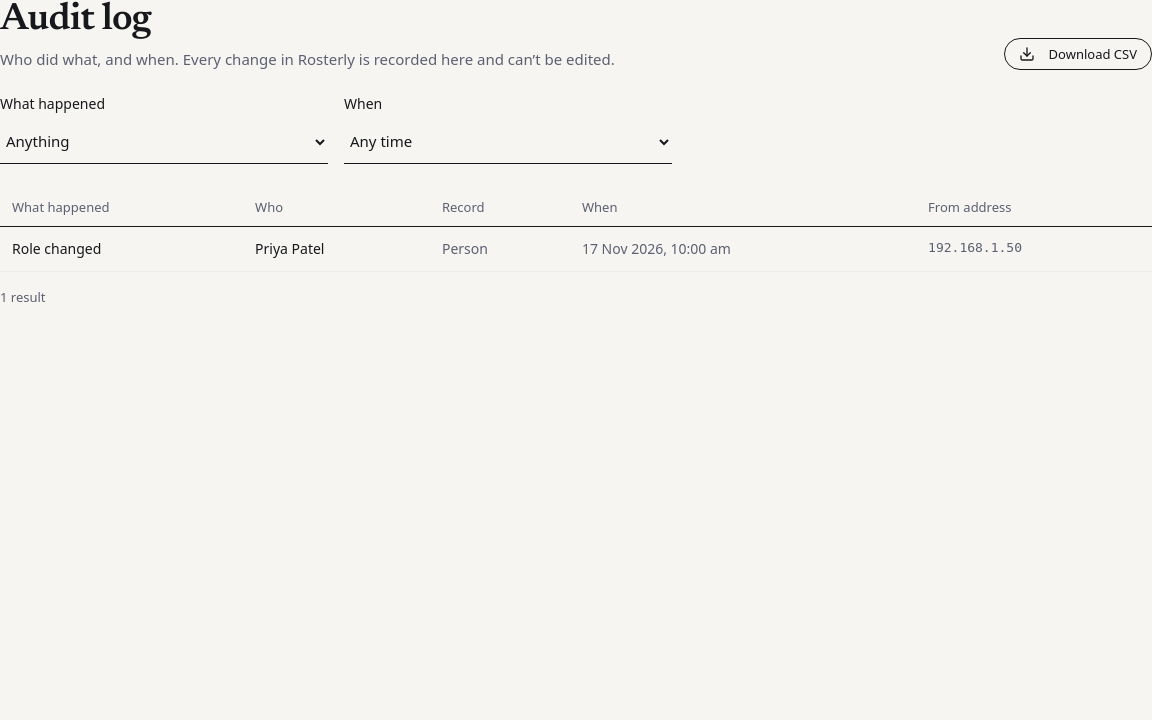
Test: Audit Log Viewer › shows what changed, before and after, in the side panel
Click the button with aria-label "Role changed — open details": (57, 249) [12,239,101,259]
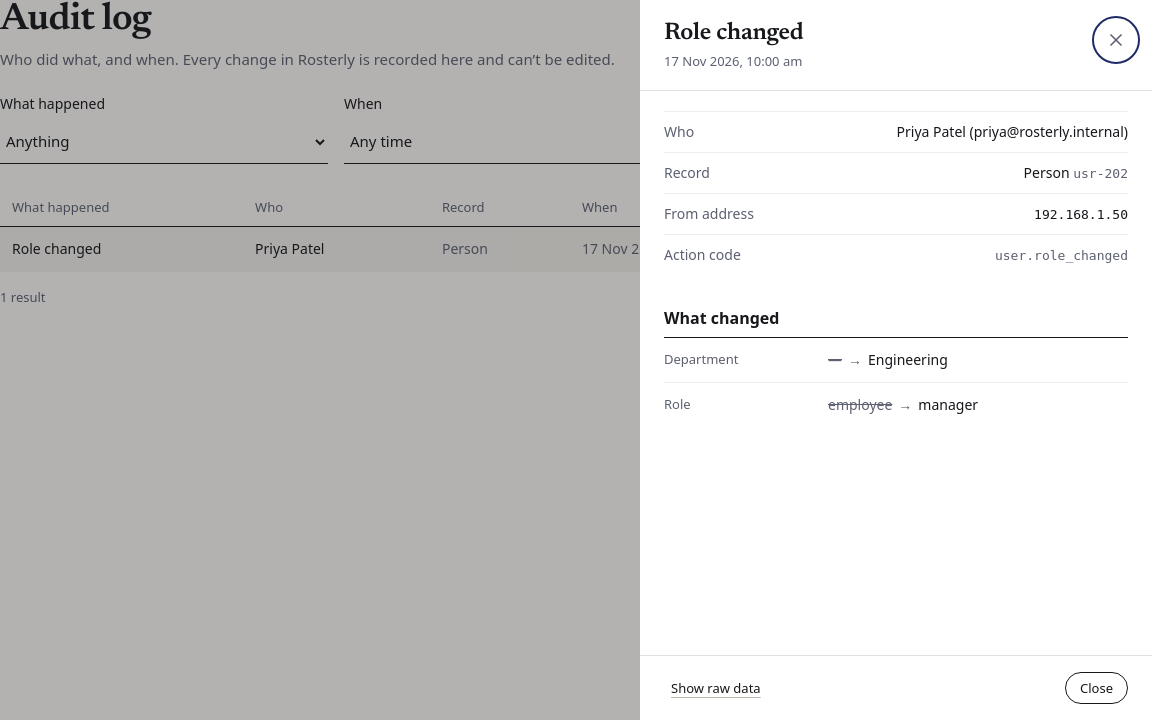
Expected: the heading "What changed" is shown, [664,307,1128,338]
Expected: the text "employee" is shown, [828,395,892,414]
Expected: the text "manager" is shown, [918,395,978,414]
